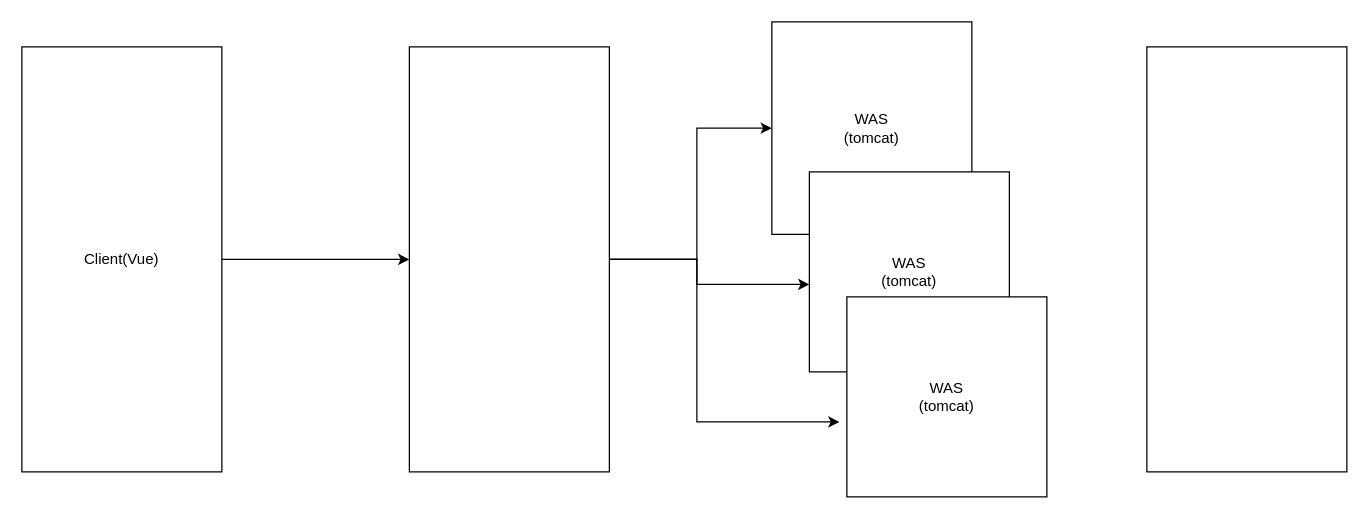
Image size: 1369x519. Some labels were removed from this diagram. Each missing label, with the box of its shape:
DB (Mysql): (1146, 46, 1347, 472)
WEB SERVER (Nginx): (408, 46, 609, 472)
